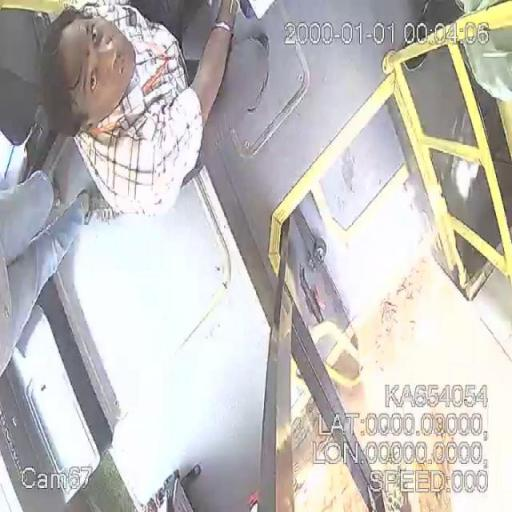persona: (22, 0, 244, 222)
